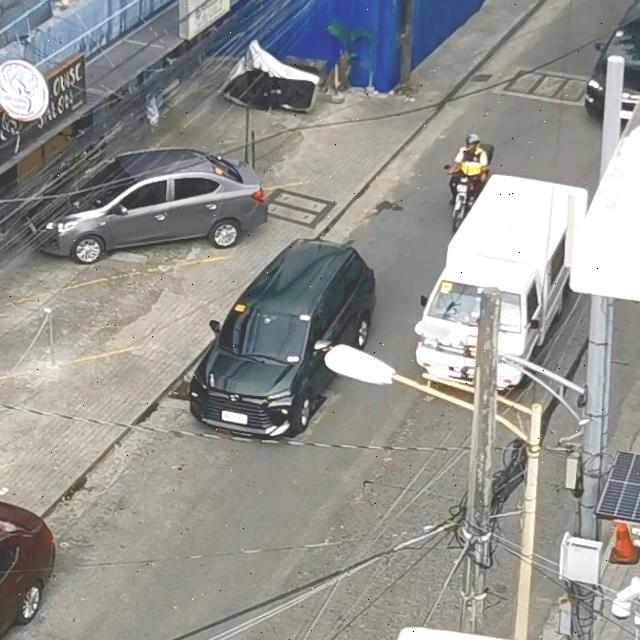Truck: (414, 136, 604, 422)
